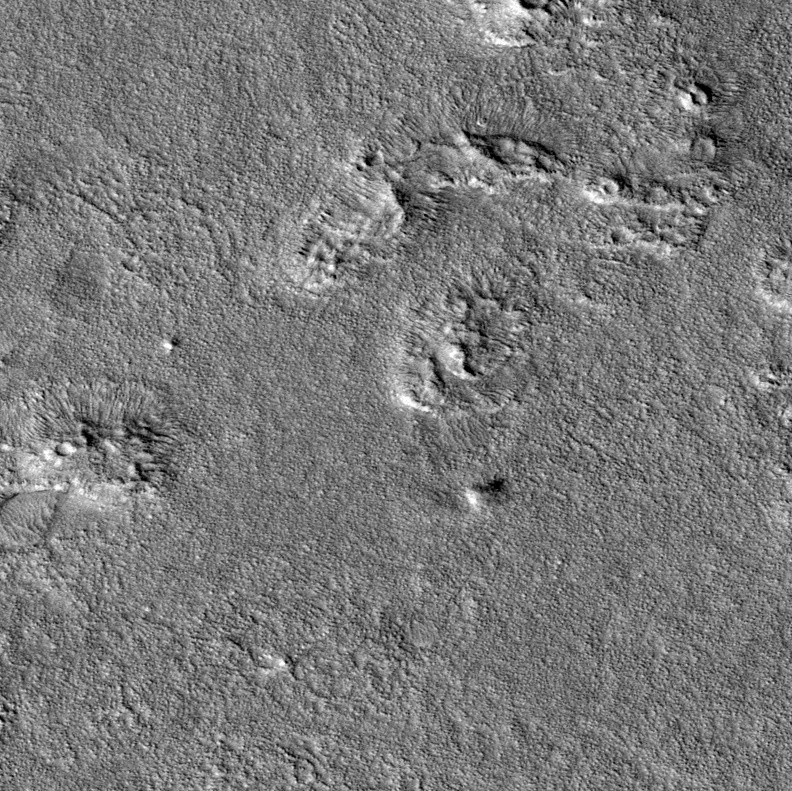dust_devil: (462, 476, 511, 511)
